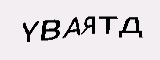А: (63, 14, 85, 39)
В: (41, 18, 62, 45)
Д: (118, 13, 145, 41)
Т: (97, 13, 119, 35)
Я: (81, 13, 97, 36)
Ү: (18, 19, 39, 44)
